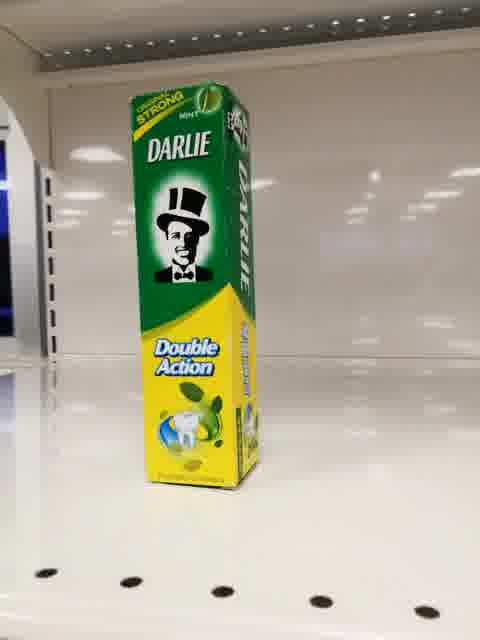toothpaste: (128, 82, 261, 489)
